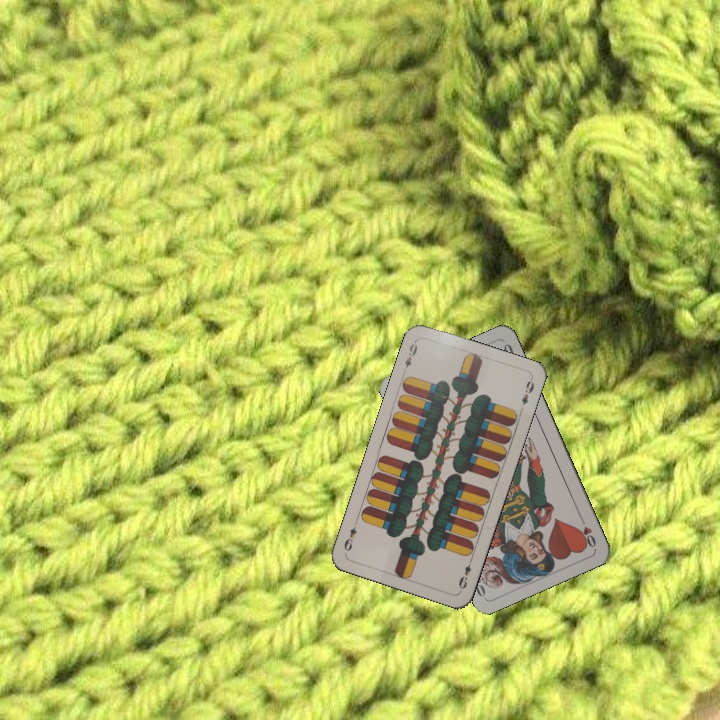E9: (399, 336, 420, 376), (455, 554, 475, 592)
HO: (575, 512, 599, 550)
